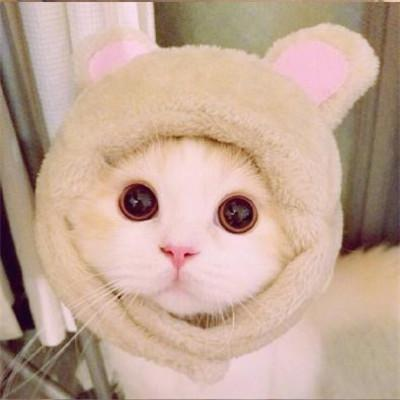cat: (71, 94, 313, 328)
